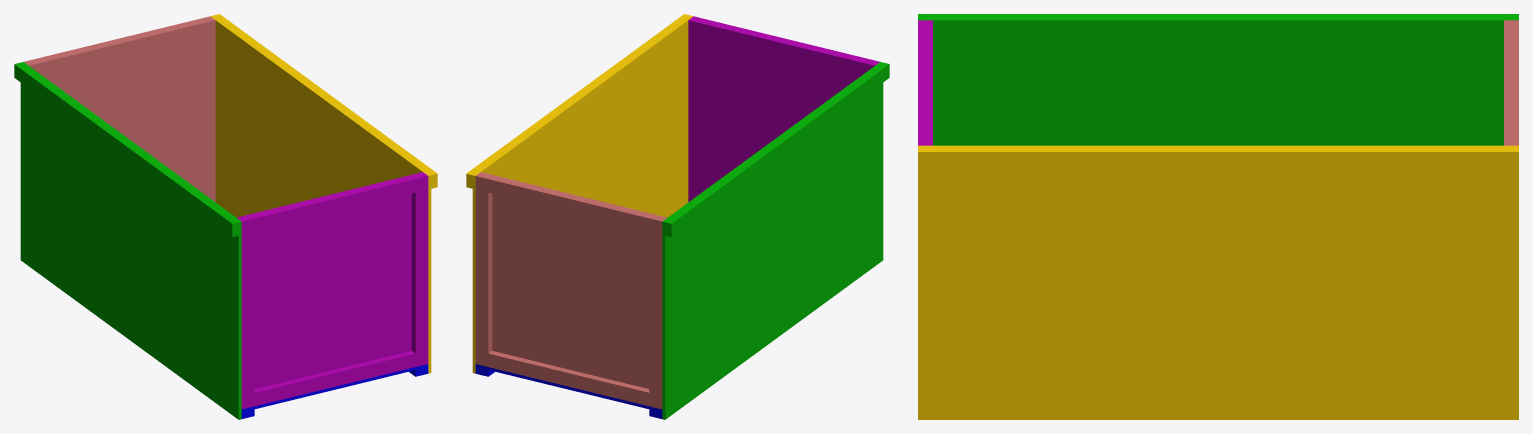
The model's file is result.glb.
The picture shows the model from 3 angles, left to right: view 1: azimuth 30°, elevation 25°; view 2: azimuth 150°, elevation 25°; view 3: azimuth 270°, elevation 25°; orthographic projection. The views are drawn at different scales.
Visible parts, largest first — view 1: 94691769-04ea-44cf-9e32-de7fbbf2da49__Box_6, 58d63e07-6634-42fc-9935-0cdb606fafc0__Box_3, 1db0624a-1ba9-4219-8807-807d10123bf6__undefined, abc612b5-1e92-4554-996d-8db0155c7a0b__undefined, f726b9fe-7e65-4508-884f-a053e5fee984__Box_7, 2284f9b1-5d26-4bcc-adc9-d127d09f56b1__undefined, b46eb5b7-8952-438b-a359-3029ef92ddcd__undefined, ae1f954f-b0be-4662-afa6-1ed8853a8601__Box_5, 4c02dc78-239c-4758-a745-df0000a4b5a8__Box_4, 9e71682a-1bdd-427c-8328-218026f0c070__undefined, d9116651-d6f6-4f55-9989-d662b3e588c3__undefined, aa61163a-4c61-47ab-a6f8-8050a306ea17__Box; view 2: 94691769-04ea-44cf-9e32-de7fbbf2da49__Box_6, abc612b5-1e92-4554-996d-8db0155c7a0b__undefined, 1db0624a-1ba9-4219-8807-807d10123bf6__undefined, 58d63e07-6634-42fc-9935-0cdb606fafc0__Box_3, f726b9fe-7e65-4508-884f-a053e5fee984__Box_7, 3ee461ab-b277-4fe1-8a1b-acc5b7d4f18c__undefined, d9116651-d6f6-4f55-9989-d662b3e588c3__undefined, 3a1acc16-80a4-4008-b2d3-d6c805a97d26__undefined, 5c5b3373-d02e-4f8c-822a-13ec4b9a3e42__undefined, 9e71682a-1bdd-427c-8328-218026f0c070__undefined, b46eb5b7-8952-438b-a359-3029ef92ddcd__undefined, aa61163a-4c61-47ab-a6f8-8050a306ea17__Box; view 3: 1db0624a-1ba9-4219-8807-807d10123bf6__undefined, 94691769-04ea-44cf-9e32-de7fbbf2da49__Box_6, 9e71682a-1bdd-427c-8328-218026f0c070__undefined, f726b9fe-7e65-4508-884f-a053e5fee984__Box_7, b46eb5b7-8952-438b-a359-3029ef92ddcd__undefined, d9116651-d6f6-4f55-9989-d662b3e588c3__undefined, 58d63e07-6634-42fc-9935-0cdb606fafc0__Box_3, abc612b5-1e92-4554-996d-8db0155c7a0b__undefined.
Boxes of the visible parts, x1,y1,x2,y2 form: 94691769-04ea-44cf-9e32-de7fbbf2da49__Box_6: (20, 62, 241, 419); 58d63e07-6634-42fc-9935-0cdb606fafc0__Box_3: (236, 172, 424, 388); 1db0624a-1ba9-4219-8807-807d10123bf6__undefined: (210, 15, 431, 373); abc612b5-1e92-4554-996d-8db0155c7a0b__undefined: (27, 19, 215, 201); f726b9fe-7e65-4508-884f-a053e5fee984__Box_7: (14, 62, 238, 237); 2284f9b1-5d26-4bcc-adc9-d127d09f56b1__undefined: (411, 173, 428, 366); b46eb5b7-8952-438b-a359-3029ef92ddcd__undefined: (251, 176, 415, 231); ae1f954f-b0be-4662-afa6-1ed8853a8601__Box_5: (254, 351, 415, 405); 4c02dc78-239c-4758-a745-df0000a4b5a8__Box_4: (238, 215, 254, 409); 9e71682a-1bdd-427c-8328-218026f0c070__undefined: (213, 14, 437, 188); d9116651-d6f6-4f55-9989-d662b3e588c3__undefined: (37, 19, 200, 61); aa61163a-4c61-47ab-a6f8-8050a306ea17__Box: (241, 364, 428, 412); 94691769-04ea-44cf-9e32-de7fbbf2da49__Box_6: (662, 62, 883, 419); abc612b5-1e92-4554-996d-8db0155c7a0b__undefined: (479, 172, 667, 388); 1db0624a-1ba9-4219-8807-807d10123bf6__undefined: (472, 15, 693, 373); 58d63e07-6634-42fc-9935-0cdb606fafc0__Box_3: (688, 19, 876, 201); f726b9fe-7e65-4508-884f-a053e5fee984__Box_7: (665, 62, 889, 237); 3ee461ab-b277-4fe1-8a1b-acc5b7d4f18c__undefined: (475, 173, 492, 366); d9116651-d6f6-4f55-9989-d662b3e588c3__undefined: (488, 176, 652, 231); 3a1acc16-80a4-4008-b2d3-d6c805a97d26__undefined: (488, 351, 649, 405); 5c5b3373-d02e-4f8c-822a-13ec4b9a3e42__undefined: (649, 215, 665, 409); 9e71682a-1bdd-427c-8328-218026f0c070__undefined: (466, 14, 690, 188); b46eb5b7-8952-438b-a359-3029ef92ddcd__undefined: (703, 19, 866, 61); aa61163a-4c61-47ab-a6f8-8050a306ea17__Box: (475, 364, 662, 412); 1db0624a-1ba9-4219-8807-807d10123bf6__undefined: (918, 145, 1518, 419); 94691769-04ea-44cf-9e32-de7fbbf2da49__Box_6: (918, 18, 1518, 145); 9e71682a-1bdd-427c-8328-218026f0c070__undefined: (918, 147, 1518, 170); f726b9fe-7e65-4508-884f-a053e5fee984__Box_7: (918, 14, 1518, 18); b46eb5b7-8952-438b-a359-3029ef92ddcd__undefined: (918, 29, 928, 136); d9116651-d6f6-4f55-9989-d662b3e588c3__undefined: (1508, 29, 1518, 136); 58d63e07-6634-42fc-9935-0cdb606fafc0__Box_3: (928, 20, 932, 145); abc612b5-1e92-4554-996d-8db0155c7a0b__undefined: (1504, 20, 1508, 145).
Bounding box in the file's own units: 572 × 526 × 1052.
